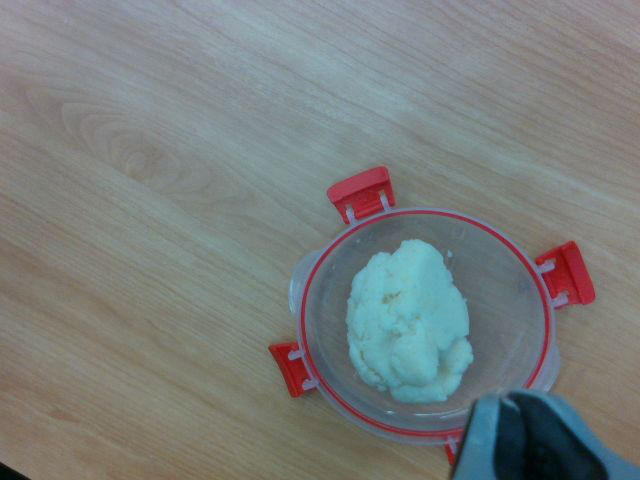mashed_potato: (347, 239, 469, 401)
